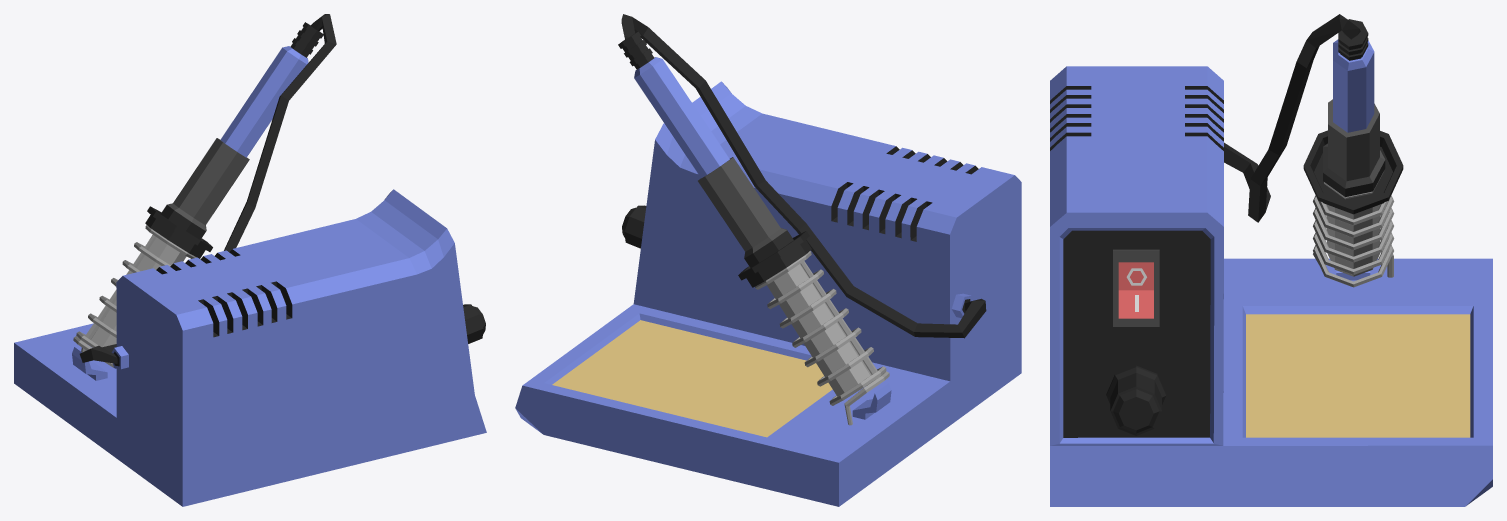
File: SolderingIronNew.fbx
The picture shows the model from 3 angles, left to right: view 1: azimuth 30°, elevation 25°; view 2: azimuth 150°, elevation 25°; view 3: azimuth 270°, elevation 25°; orthographic projection. The views are drawn at different scales.
Parts seen in each view (by area): view 1: SolderingIron; view 2: SolderingIron; view 3: SolderingIron.
Boxes of the visible parts, x1,y1,x2,y2 form: SolderingIron: [14, 14, 486, 506]; SolderingIron: [515, 14, 1021, 506]; SolderingIron: [1050, 14, 1492, 506].
Bounding box in the file's own units: 247 × 228 × 200.
